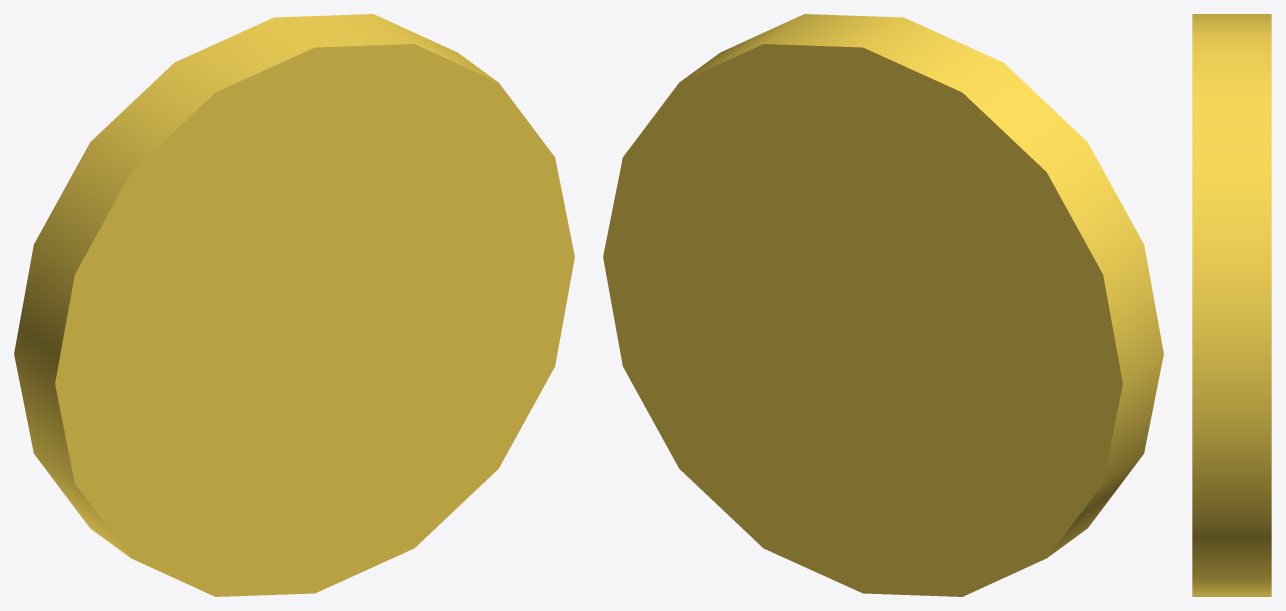
The model's file is coin.fbx.
3 views of the same model, side by side, from view 1: azimuth 30°, elevation 25°; view 2: azimuth 150°, elevation 25°; view 3: azimuth 270°, elevation 25° (orthographic). The views are drawn at different scales.
Visible parts, largest first — view 1: Coin; view 2: Coin; view 3: Coin.
Boxes of the visible parts, bbox=[...] form: Coin: bbox=[14, 14, 574, 596]; Coin: bbox=[603, 14, 1163, 596]; Coin: bbox=[1192, 14, 1271, 596].
Size of the model in its own units: 368 by 370 by 50.32.
